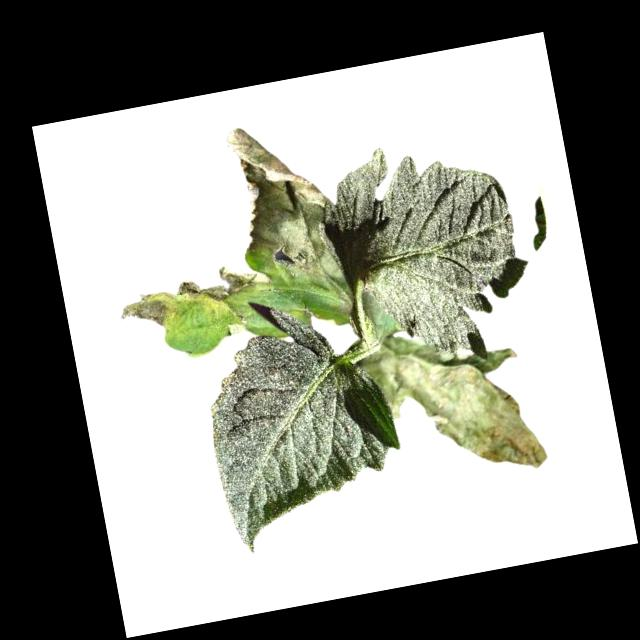Late_blight: (354, 314, 550, 498), (220, 112, 340, 291), (170, 260, 261, 313), (113, 286, 180, 335), (214, 301, 249, 338), (324, 289, 354, 318)
healthy: (189, 288, 415, 557), (312, 124, 545, 382)
